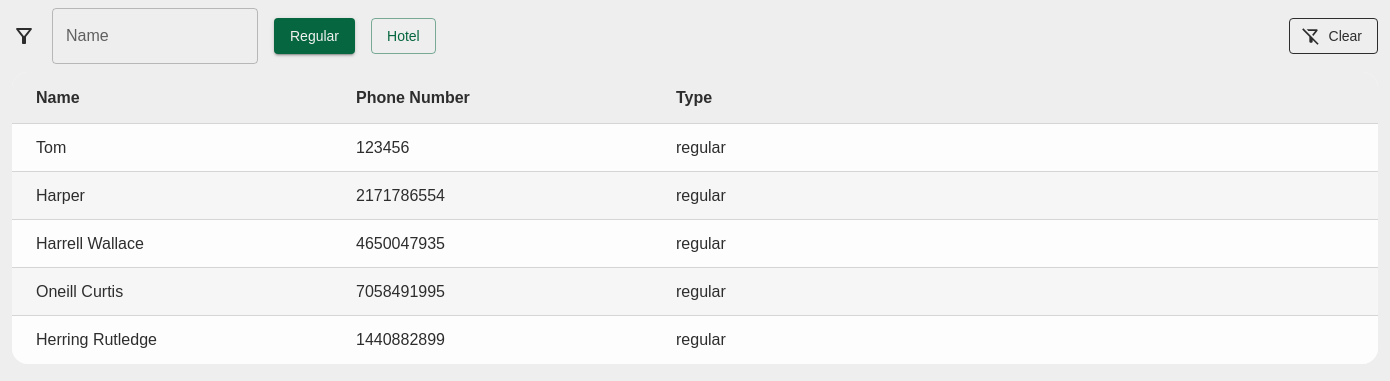
Test: Generic Table component › Table with primary filters › should have button filter correctly select table rows by type
The width and height of the screenshot is (1390, 381).
Click the button "Hotel" at x=403, y=36, box 371,18 -> 436,54
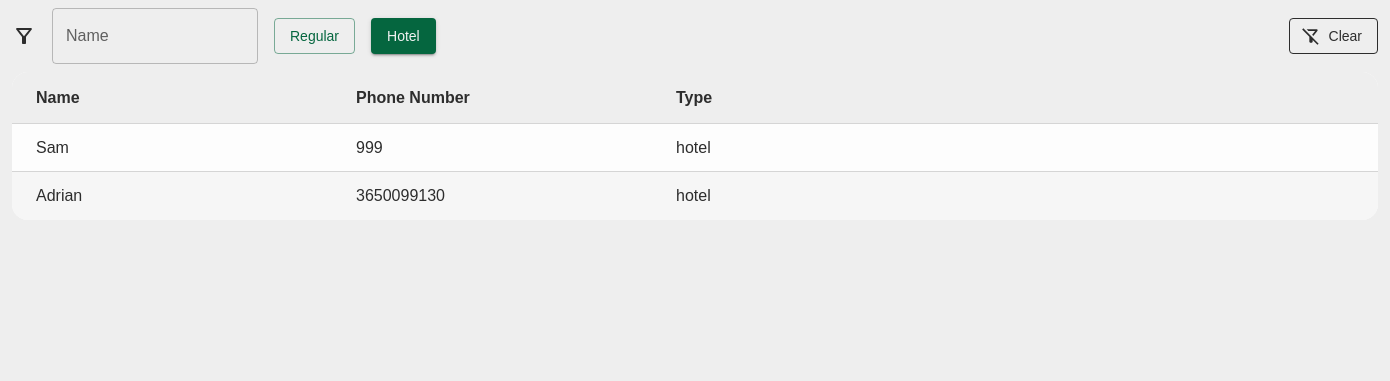
Now the text "Tom" is gone
Now the text "Sam" is shown, box 36,138 -> 69,156
Now the text "Harper" is gone
Click the button "Regular" at x=314, y=36, box 274,18 -> 355,54
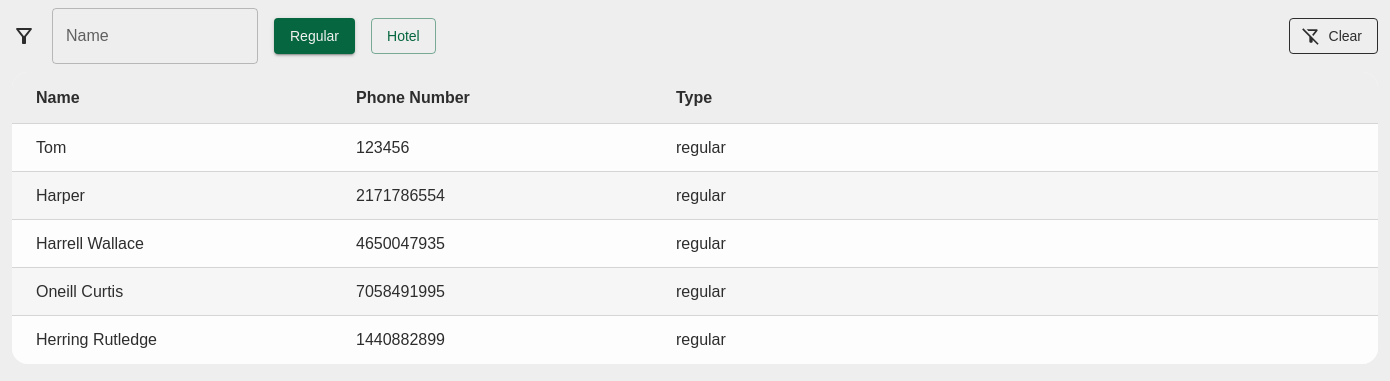
Now the text "Tom" is shown, box 36,138 -> 66,156
Now the text "Sam" is gone
Now the text "Harper" is shown, box 36,186 -> 85,204
